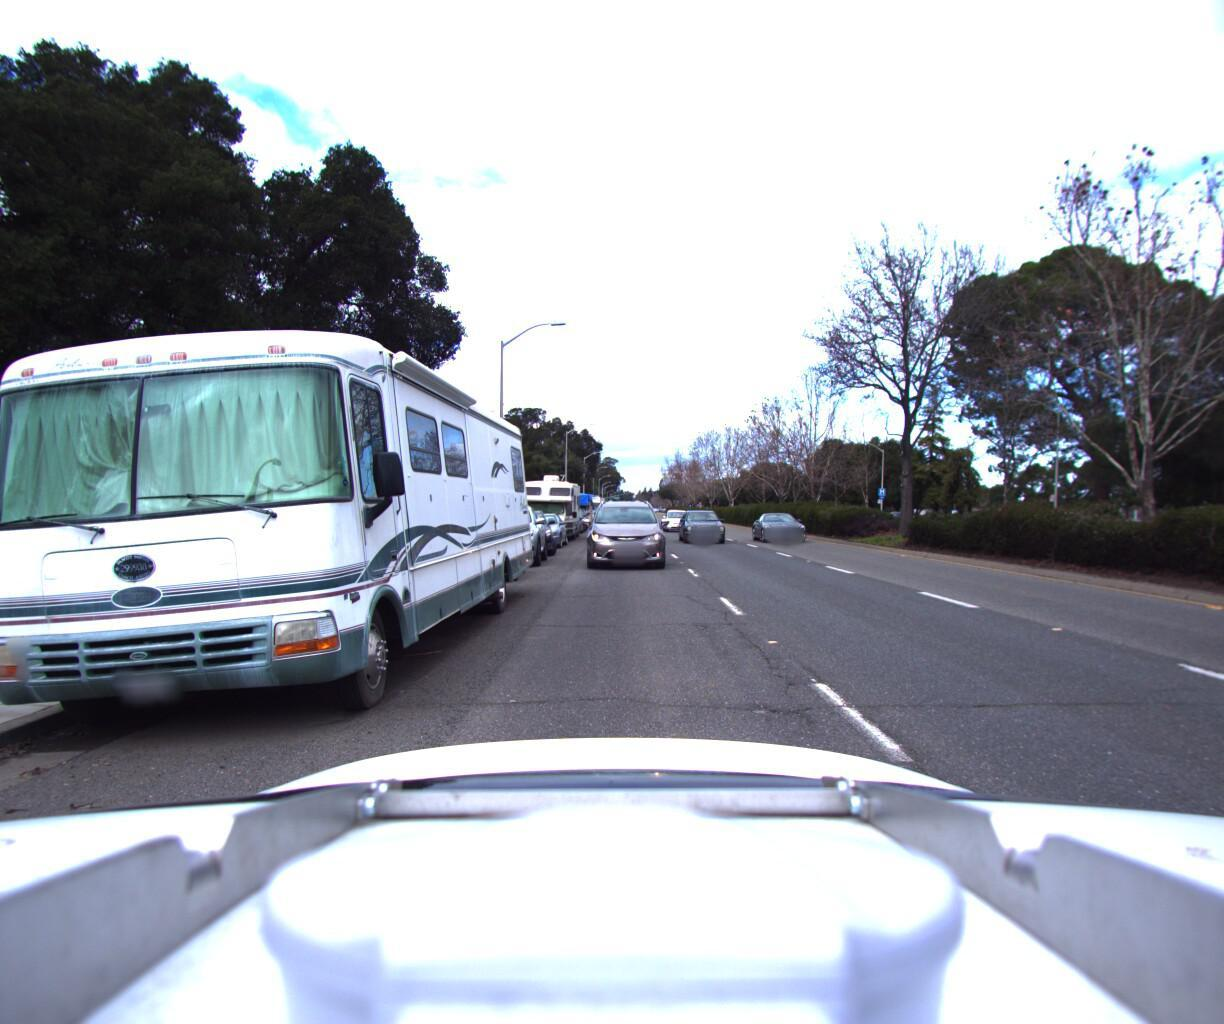car: (457, 497, 546, 570), (584, 492, 662, 573), (0, 478, 68, 556), (495, 502, 554, 556), (509, 505, 565, 549), (752, 506, 816, 544), (677, 506, 731, 544), (657, 506, 691, 531)
other_vehicle: (0, 219, 531, 773), (507, 467, 579, 541), (553, 488, 590, 524)
